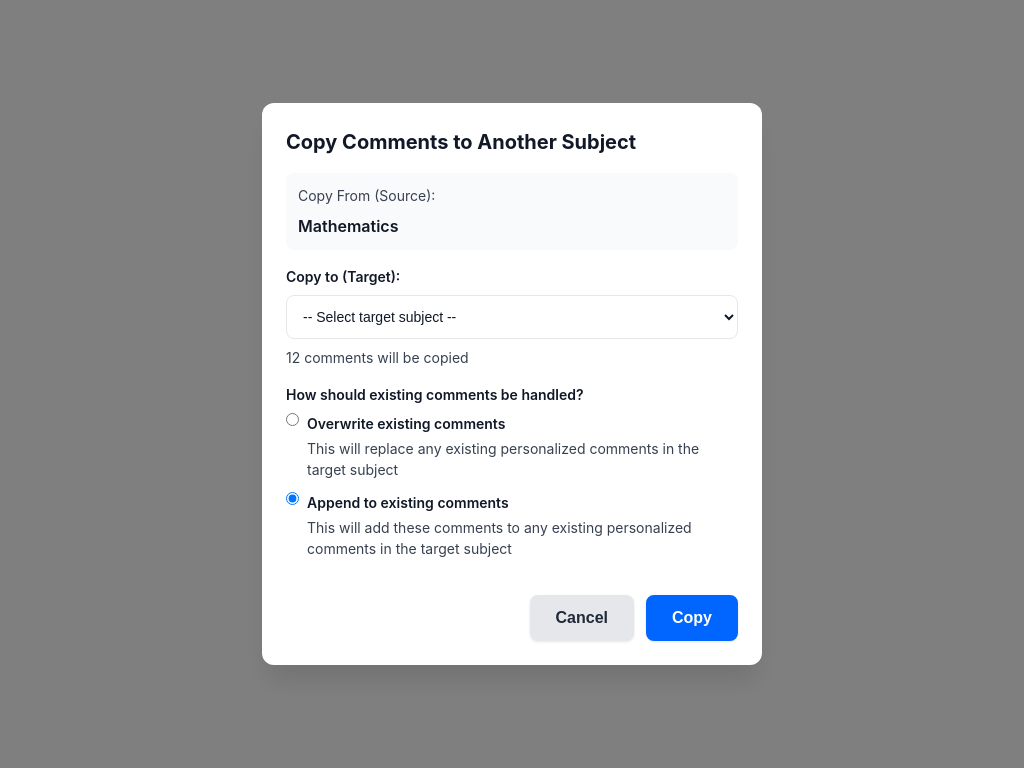
Test: CopyCommentsModal - Duplicate Handling & Message Display (US-CP-007) › AC-7.1: Append Mode with Duplicates › should show "(already existed)" for clarity
This screenshot has width=1024, height=768.
Select "Physics" in the dropdown labelled "Copy to (Target):" at [512, 317], box x1=286 y1=295 x2=738 y2=339
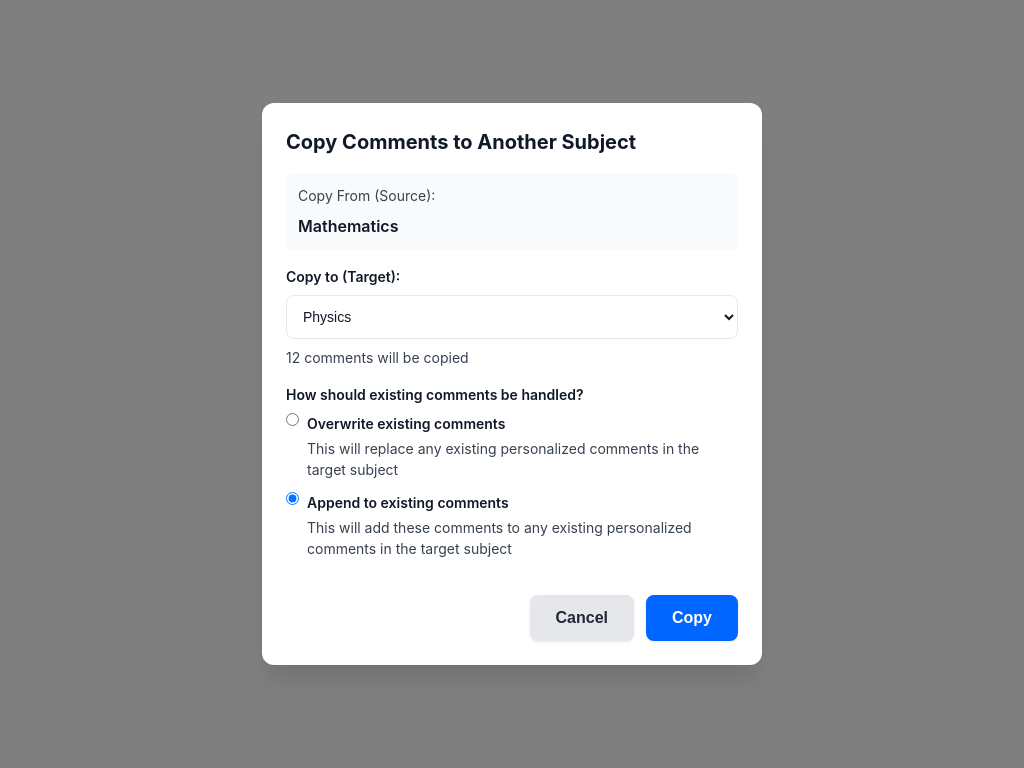
Click the button "Copy" at [692, 618], box x1=646 y1=595 x2=738 y2=641
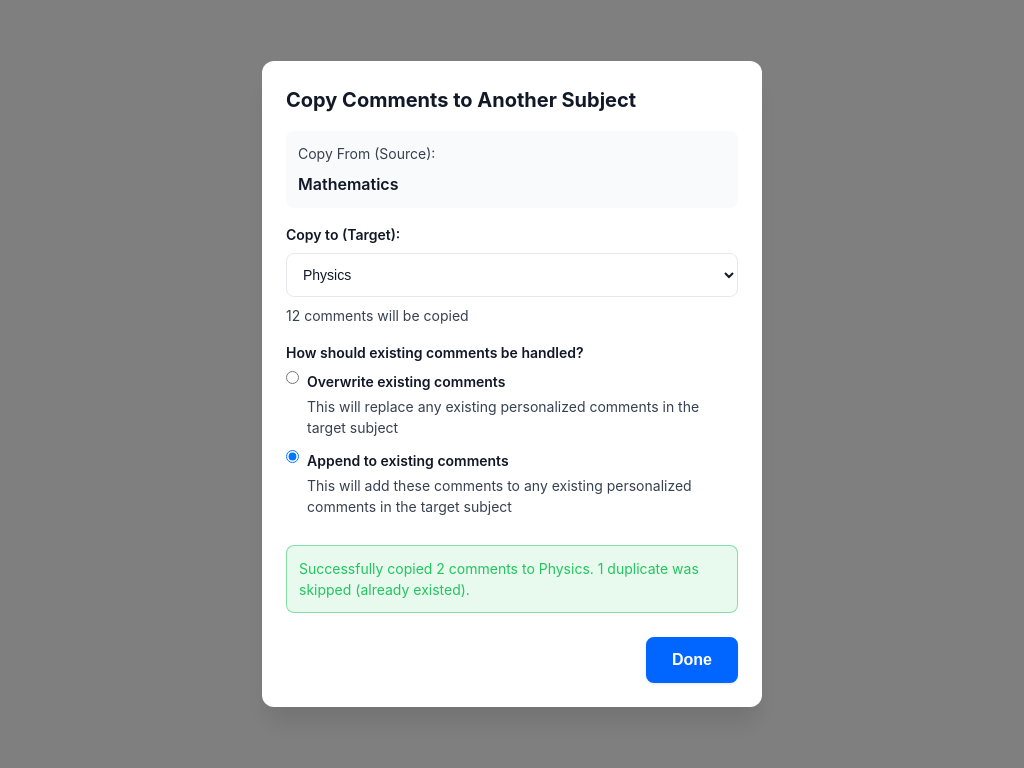
Expected: the text "(already existed)" is shown, x1=299 y1=560 x2=699 y2=598
